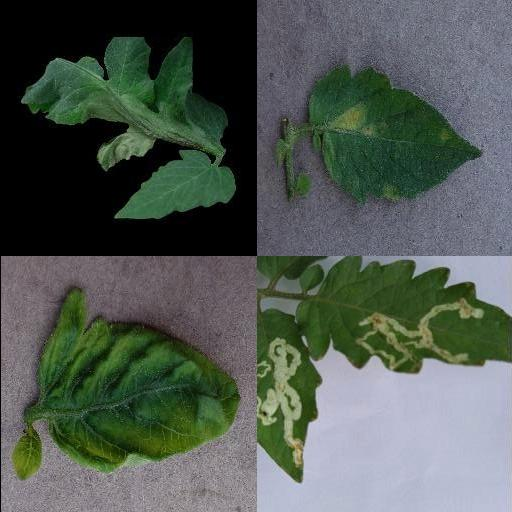Healthy: (113, 149, 235, 221)
Late Blight: (20, 37, 224, 171)
Leaf Miner: (304, 256, 512, 374), (256, 307, 322, 484)
Leaf Mold: (305, 66, 485, 207)
Yellow Leaf Curl Virus: (37, 286, 239, 474)
